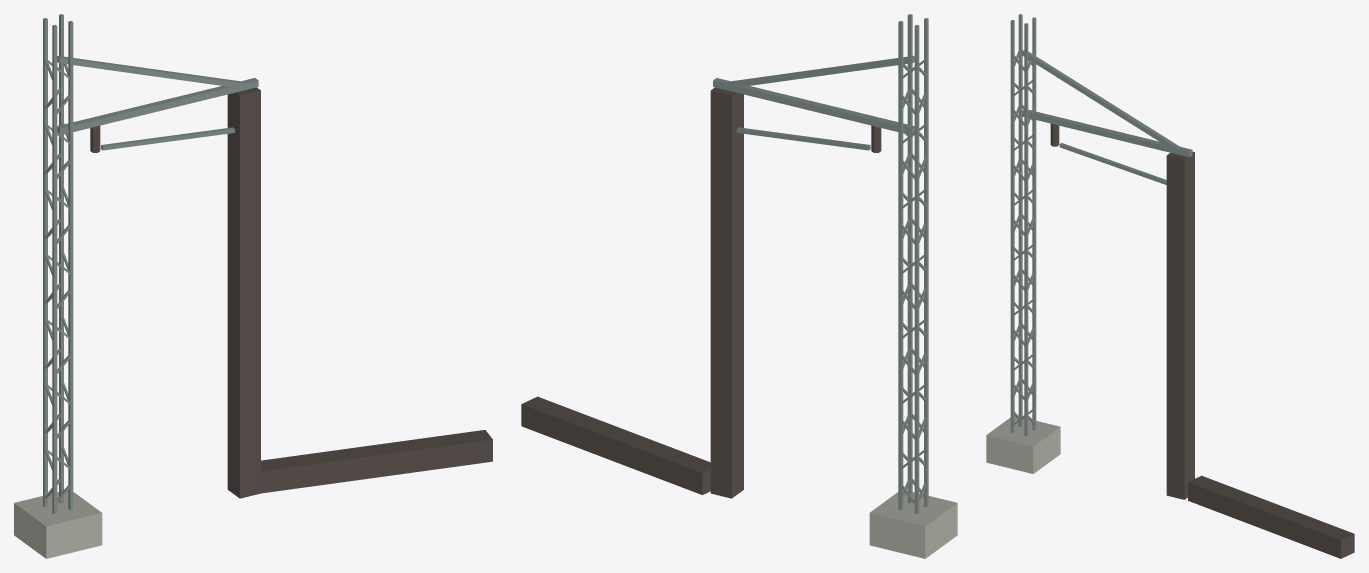
File: SM_poste_catenaria_v4_LOD0.fbx
3 renders of one model, left to right at view 1: azimuth 30°, elevation 25°; view 2: azimuth 150°, elevation 25°; view 3: azimuth 330°, elevation 25°, orthographic. The views are drawn at different scales.
Parts seen in each view (by area): view 1: SM_bloques.poste_catenaria_v4_LOD0; view 2: SM_bloques.poste_catenaria_v4_LOD0; view 3: SM_bloques.poste_catenaria_v4_LOD0.
Boxes of the visible parts, bbox=[...] form: SM_bloques.poste_catenaria_v4_LOD0: bbox=[14, 14, 492, 558]; SM_bloques.poste_catenaria_v4_LOD0: bbox=[521, 14, 957, 558]; SM_bloques.poste_catenaria_v4_LOD0: bbox=[986, 14, 1354, 558].
Size of the model in its own units: 7.05 by 8 by 1.27.
